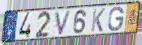2: (35, 10, 52, 39)
4: (18, 11, 33, 39)
6: (72, 9, 88, 35)
G: (107, 6, 126, 33)
K: (90, 8, 106, 33)
V: (54, 9, 73, 37)
